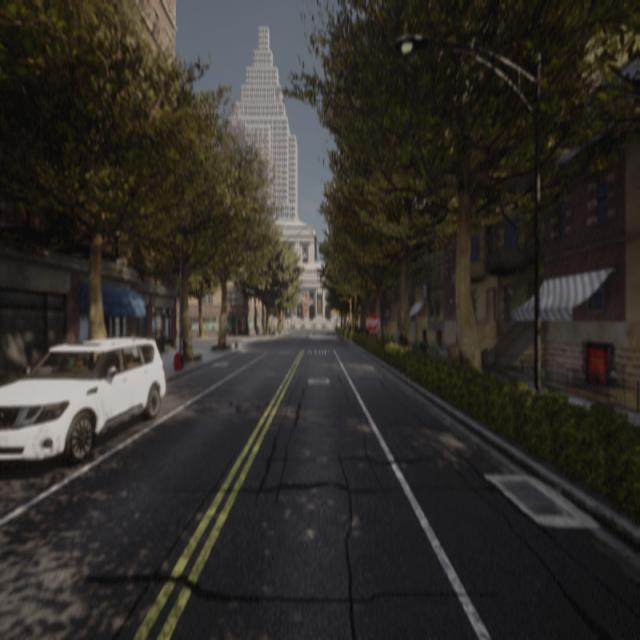stop sign: (362, 309, 381, 335)
